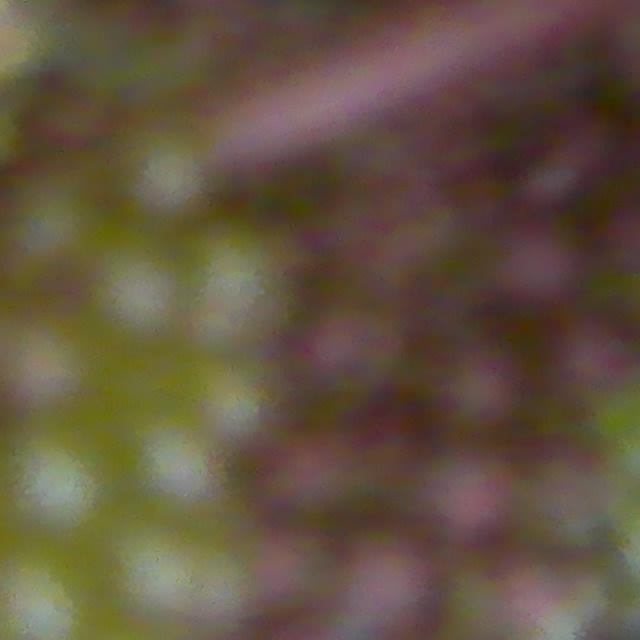SeaGrape: (8, 421, 115, 535), (0, 539, 99, 640), (111, 519, 209, 619), (125, 413, 221, 510), (121, 126, 215, 223), (6, 318, 101, 411), (339, 528, 428, 627), (95, 249, 187, 343), (551, 317, 633, 403), (200, 362, 281, 449), (433, 464, 516, 548), (433, 359, 512, 429), (514, 225, 584, 299)
